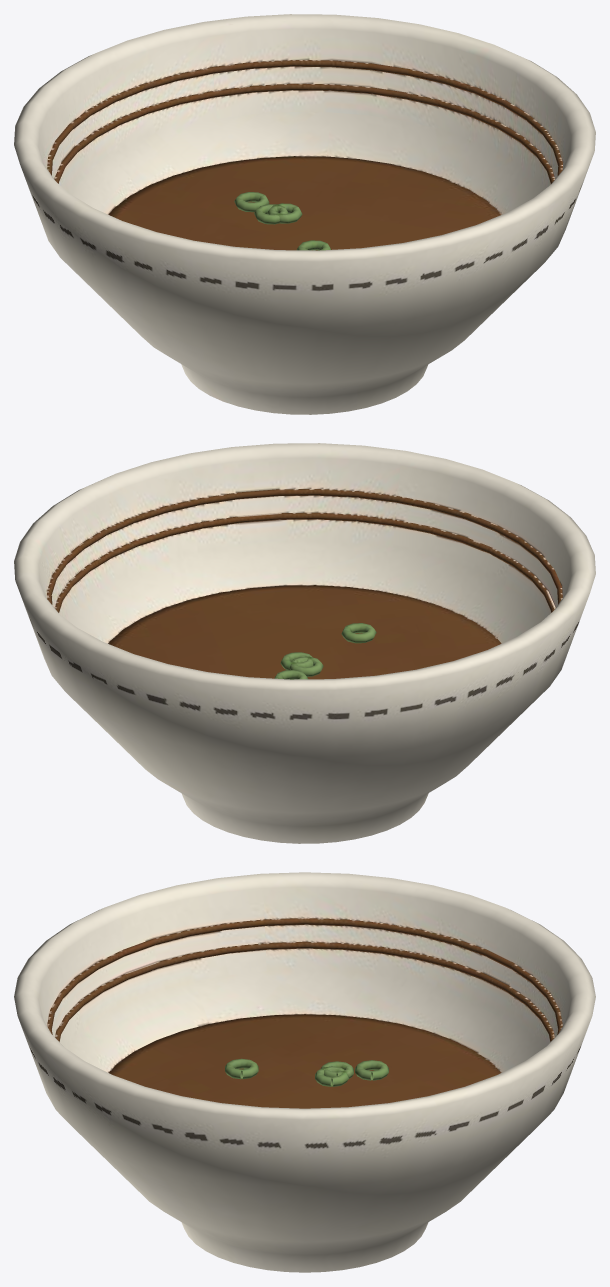
File: soba_nn2.glb
3 renders of one model, top to bottom at view 1: azimuth 30°, elevation 25°; view 2: azimuth 150°, elevation 25°; view 3: azimuth 270°, elevation 25°, orthographic.
Parts seen in each view (by area): view 1: prop_soba_nn2_felt; view 2: prop_soba_nn2_felt; view 3: prop_soba_nn2_felt.
Part boxes in pixels (box(x1,y1,x2,y2)): prop_soba_nn2_felt: box(14, 14, 595, 414); prop_soba_nn2_felt: box(14, 443, 595, 843); prop_soba_nn2_felt: box(14, 872, 595, 1272).
Size of the model in its own units: 0.3 by 0.1305 by 0.3.
1 material, 1 textured.
